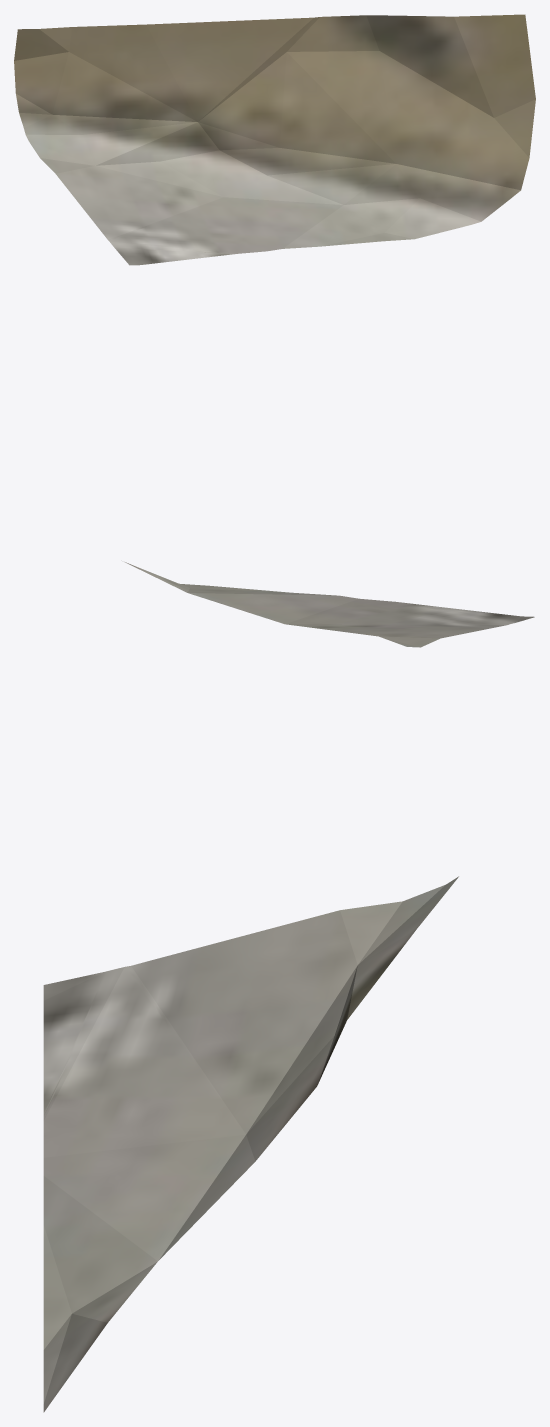
3 renders of one model, top to bottom at view 1: azimuth 30°, elevation 25°; view 2: azimuth 150°, elevation 25°; view 3: azimuth 270°, elevation 25°, orthographic. The views are drawn at different scales.
Bounding box in the file's own units: 0.3388 × 0.1576 × 0.167.
1 material, 1 textured.
